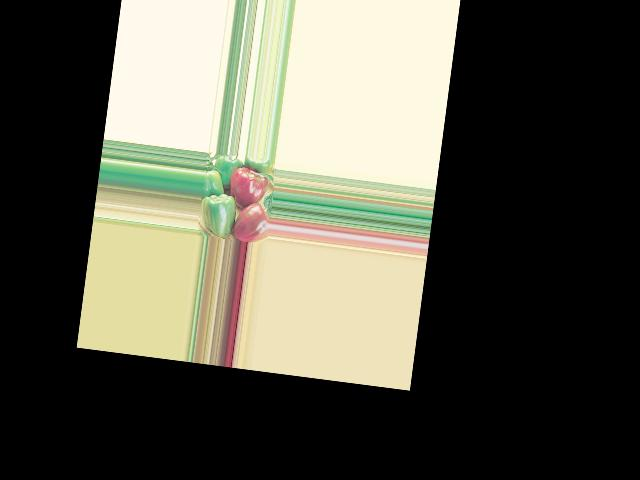bell_pepper: (234, 200, 270, 244)
